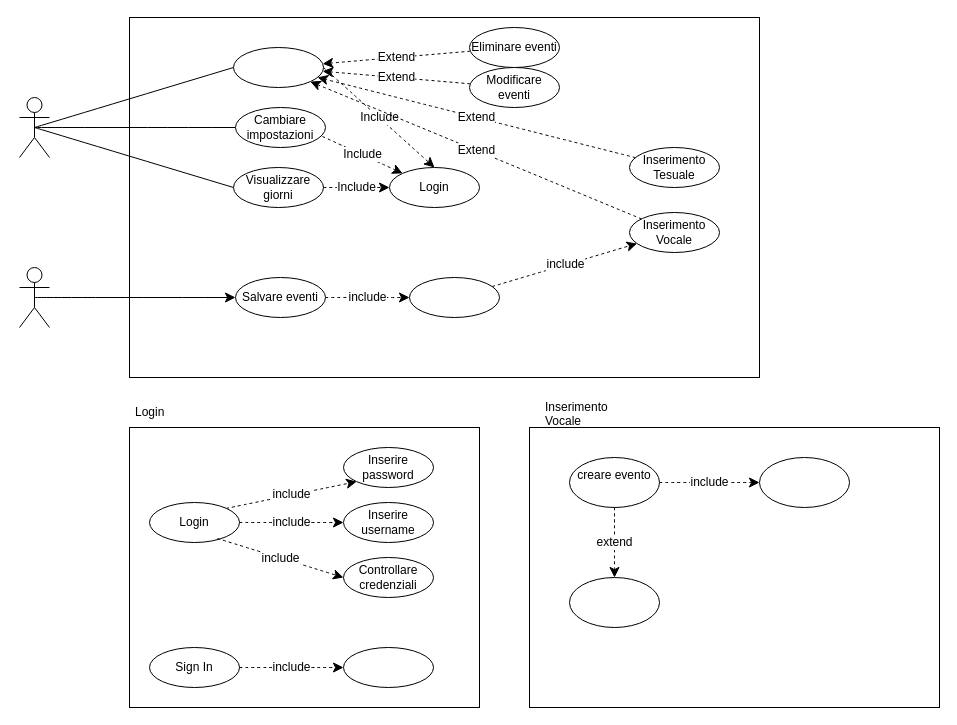
This 957x725 diagram has some shape labels left out. The shapes that lost their labels are listed below. From the top down, each one's box as (x1, y1, x2, y2) in pixels, then its label:
(232, 46, 324, 88): Gestire eventi
(18, 96, 50, 158): Utente
(18, 266, 50, 328): Server
(408, 276, 500, 318): Text To Speetch
(758, 456, 850, 508): trasformare voce in testo
(568, 576, 660, 628): stimare dati mancanti
(342, 646, 434, 688): Inserire dati
